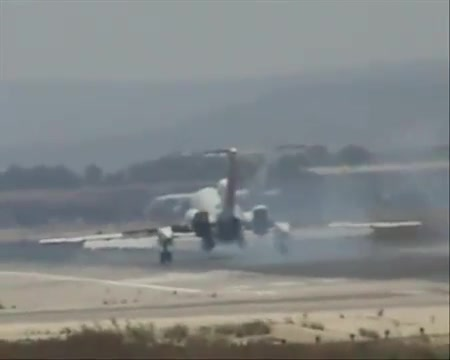aeroplane: (39, 147, 425, 266)
